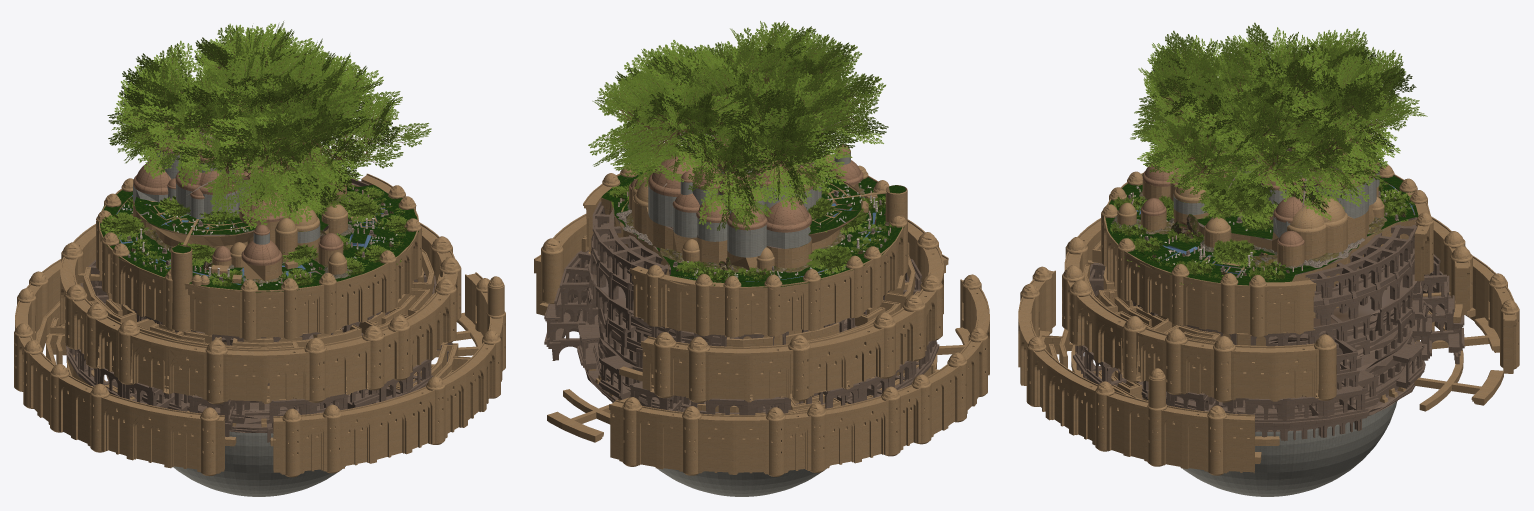
File: laputa-mobile.glb
3 views of the same model, side by side, from view 1: azimuth 30°, elevation 25°; view 2: azimuth 150°, elevation 25°; view 3: azimuth 270°, elevation 25° (orthographic). The views are drawn at different scales.
Parts seen in each view (by area): view 1: _(Loose Entity), G-Object.515, C-Component#23, _C-Composant#4 (Loose Mesh), _G-Object.002 (Loose Mesh), G-Object.001, C-Composant#13.002, C-Composant#12, _C-Component#1 (Loose Mesh); view 2: _(Loose Entity), G-Object.515, _G-Object.002 (Loose Mesh), C-Component#23, C-Composant#13.002, C-Composant#12, _C-Composant#4 (Loose Mesh), _C-Component#1 (Loose Mesh), G-Object.001, taDvf_LOD0_TIER3_000_MatID_1_0; view 3: _(Loose Entity), G-Object.515, _G-Object.002 (Loose Mesh), C-Component#23, G-Object.001, _C-Component#1 (Loose Mesh), _C-Composant#4 (Loose Mesh), C-Composant#13.002, C-Composant#12, taDvf_LOD0_TIER3_000_MatID_1_0.
Boxes of the visible parts, x1=… form: _(Loose Entity): x1=14, y1=173, x2=505, y2=477; G-Object.515: x1=100, y1=21, x2=431, y2=286; C-Component#23: x1=35, y1=182, x2=483, y2=446; _C-Composant#4 (Loose Mesh): x1=98, y1=185, x2=418, y2=292; _G-Object.002 (Loose Mesh): x1=66, y1=178, x2=452, y2=442; G-Object.001: x1=173, y1=431, x2=345, y2=496; C-Composant#13.002: x1=133, y1=121, x2=343, y2=265; C-Composant#12: x1=133, y1=149, x2=320, y2=244; _C-Component#1 (Loose Mesh): x1=106, y1=222, x2=374, y2=442; _(Loose Entity): x1=534, y1=154, x2=989, y2=476; G-Object.515: x1=588, y1=21, x2=901, y2=282; _G-Object.002 (Loose Mesh): x1=544, y1=201, x2=939, y2=415; C-Component#23: x1=539, y1=171, x2=969, y2=442; C-Composant#13.002: x1=629, y1=133, x2=863, y2=232; C-Composant#12: x1=648, y1=152, x2=850, y2=257; _C-Composant#4 (Loose Mesh): x1=601, y1=161, x2=905, y2=287; _C-Component#1 (Loose Mesh): x1=552, y1=219, x2=867, y2=411; G-Object.001: x1=657, y1=465, x2=830, y2=496; taDvf_LOD0_TIER3_000_MatID_1_0: x1=626, y1=186, x2=864, y2=274; _(Loose Entity): x1=1018, y1=165, x2=1519, y2=475; G-Object.515: x1=1110, y1=22, x2=1427, y2=284; _G-Object.002 (Loose Mesh): x1=1069, y1=214, x2=1464, y2=440; C-Component#23: x1=1039, y1=170, x2=1503, y2=463; G-Object.001: x1=1182, y1=401, x2=1397, y2=496; _C-Component#1 (Loose Mesh): x1=1141, y1=222, x2=1425, y2=441; _C-Composant#4 (Loose Mesh): x1=1105, y1=147, x2=1418, y2=285; C-Composant#13.002: x1=1141, y1=122, x2=1379, y2=246; C-Composant#12: x1=1156, y1=139, x2=1379, y2=237; taDvf_LOD0_TIER3_000_MatID_1_0: x1=1138, y1=190, x2=1388, y2=267.
Size of the model in its own units: 30.77 by 29.64 by 30.78.
Materials: 24 (23 with a texture image).
